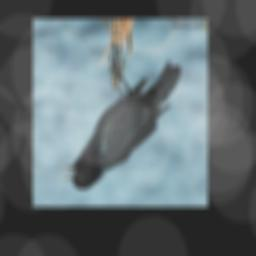Crow: (59, 55, 181, 190)
